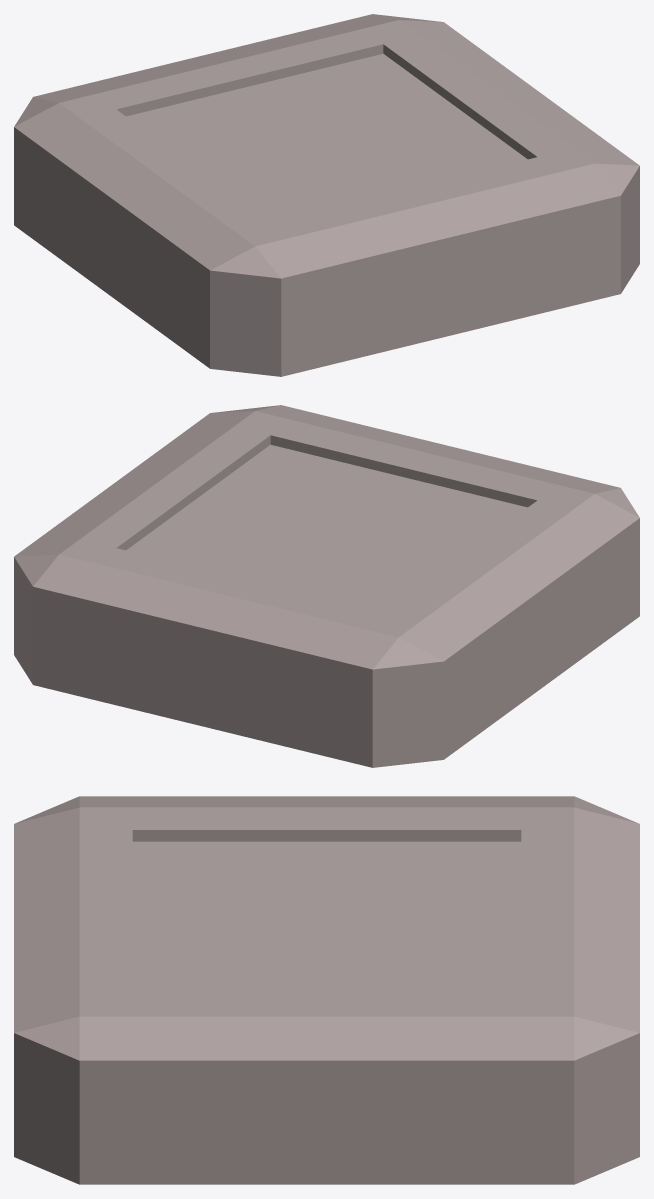
Rendered from switchBase.gltf.
The picture shows the model from 3 angles, top to bottom: view 1: azimuth 30°, elevation 25°; view 2: azimuth 150°, elevation 25°; view 3: azimuth 270°, elevation 25°; orthographic projection. The views are drawn at different scales.
Visible parts, largest first — view 1: スイッチ; view 2: スイッチ; view 3: スイッチ.
Part boxes in pixels (box(x1,y1,x2,y2)): スイッチ: box(14, 14, 639, 376); スイッチ: box(14, 405, 639, 767); スイッチ: box(14, 796, 639, 1184).
Size of the model in its own units: 6.64 by 1.84 by 6.64.
Materials: 1 (1 with a texture image).
